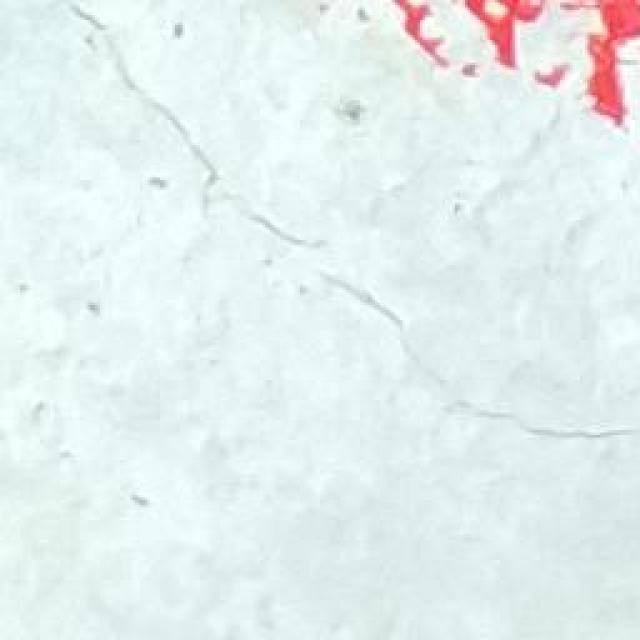Diagonal: (70, 4, 640, 450)
